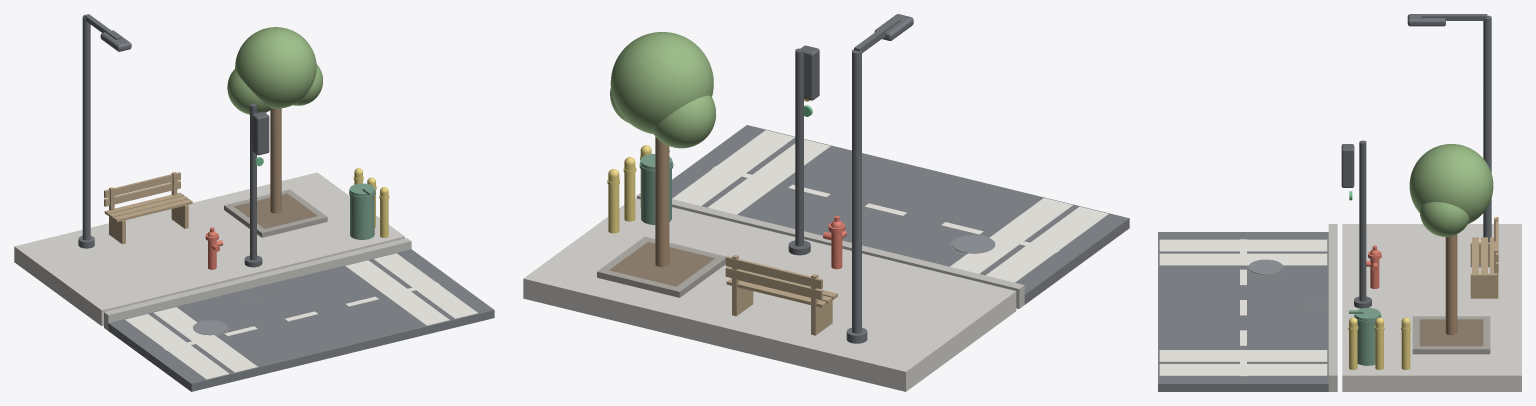
File: street_kit_01.glb
The picture shows the model from 3 angles, left to right: view 1: azimuth 30°, elevation 25°; view 2: azimuth 150°, elevation 25°; view 3: azimuth 270°, elevation 25°; orthographic projection. The views are drawn at different scales.
Parts seen in each view (by area): view 1: тротуар, дорога, зебра, крона, бордюр, скамейка, фонарь, светофор, бак, л_грунт, л_рамка, л_ствол (+4 smaller); view 2: тротуар, дорога, зебра, крона, скамейка, фонарь, бордюр, светофор, л_грунт, л_рамка, л_ствол, бак (+5 smaller); view 3: тротуар, дорога, зебра, крона, фонарь, светофор, скамейка, бордюр, л_грунт, л_рамка, л_ствол, бак (+6 smaller).
Part boxes in pixels (x1=…): тротуар: x1=14, y1=172, x2=404, y2=325; дорога: x1=108, y1=249, x2=494, y2=391; зебра: x1=125, y1=253, x2=477, y2=379; крона: x1=227, y1=27, x2=322, y2=114; бордюр: x1=104, y1=238, x2=411, y2=330; скамейка: x1=104, y1=172, x2=192, y2=244; фонарь: x1=78, y1=14, x2=131, y2=248; светофор: x1=244, y1=103, x2=269, y2=267; бак: x1=349, y1=183, x2=375, y2=239; л_грунт: x1=234, y1=193, x2=317, y2=228; л_рамка: x1=224, y1=189, x2=327, y2=237; л_ствол: x1=270, y1=108, x2=281, y2=213; тротуар: x1=523, y1=198, x2=1016, y2=391; дорога: x1=672, y1=125, x2=1129, y2=304; зебра: x1=672, y1=130, x2=1108, y2=282; крона: x1=610, y1=32, x2=715, y2=148; скамейка: x1=725, y1=255, x2=837, y2=335; фонарь: x1=846, y1=14, x2=913, y2=343; бордюр: x1=636, y1=193, x2=1024, y2=308; светофор: x1=788, y1=45, x2=819, y2=255; л_грунт: x1=609, y1=242, x2=715, y2=286; л_рамка: x1=597, y1=237, x2=725, y2=297; л_ствол: x1=655, y1=137, x2=669, y2=267; бак: x1=639, y1=150, x2=673, y2=224; тротуар: x1=1342, y1=224, x2=1521, y2=391; дорога: x1=1158, y1=232, x2=1328, y2=391; зебра: x1=1159, y1=239, x2=1327, y2=375; крона: x1=1409, y1=144, x2=1493, y2=236; фонарь: x1=1407, y1=14, x2=1491, y2=242; светофор: x1=1341, y1=140, x2=1371, y2=308; скамейка: x1=1470, y1=217, x2=1498, y2=298; бордюр: x1=1328, y1=224, x2=1337, y2=391; л_грунт: x1=1419, y1=319, x2=1483, y2=346; л_рамка: x1=1412, y1=316, x2=1490, y2=354; л_ствол: x1=1445, y1=234, x2=1457, y2=335; бак: x1=1349, y1=308, x2=1381, y2=365.
Bounding box in the file's own units: 6000 × 4660 × 6075.
